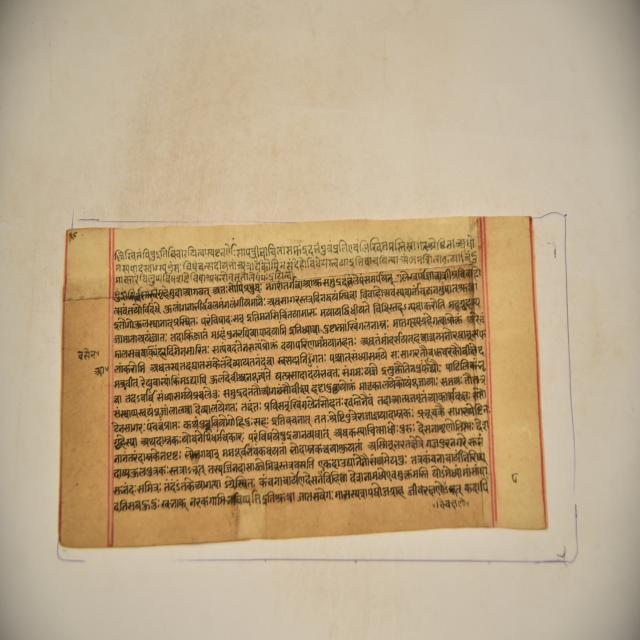text_paragraph: (56, 214, 548, 546)
